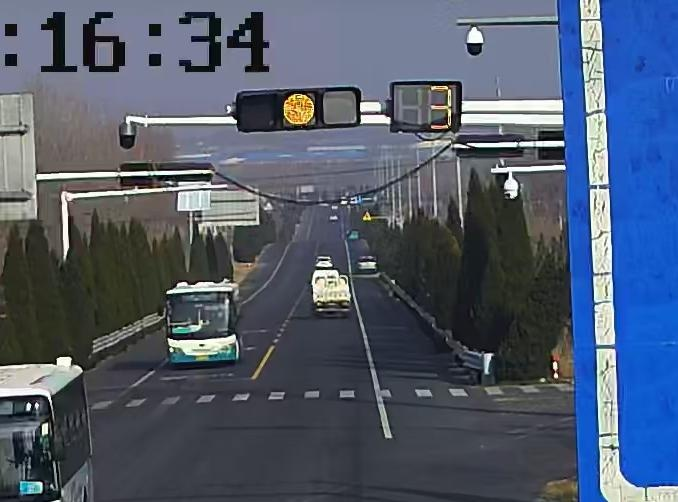yellow: (278, 90, 318, 127)
yellowtime: (427, 83, 461, 132)
